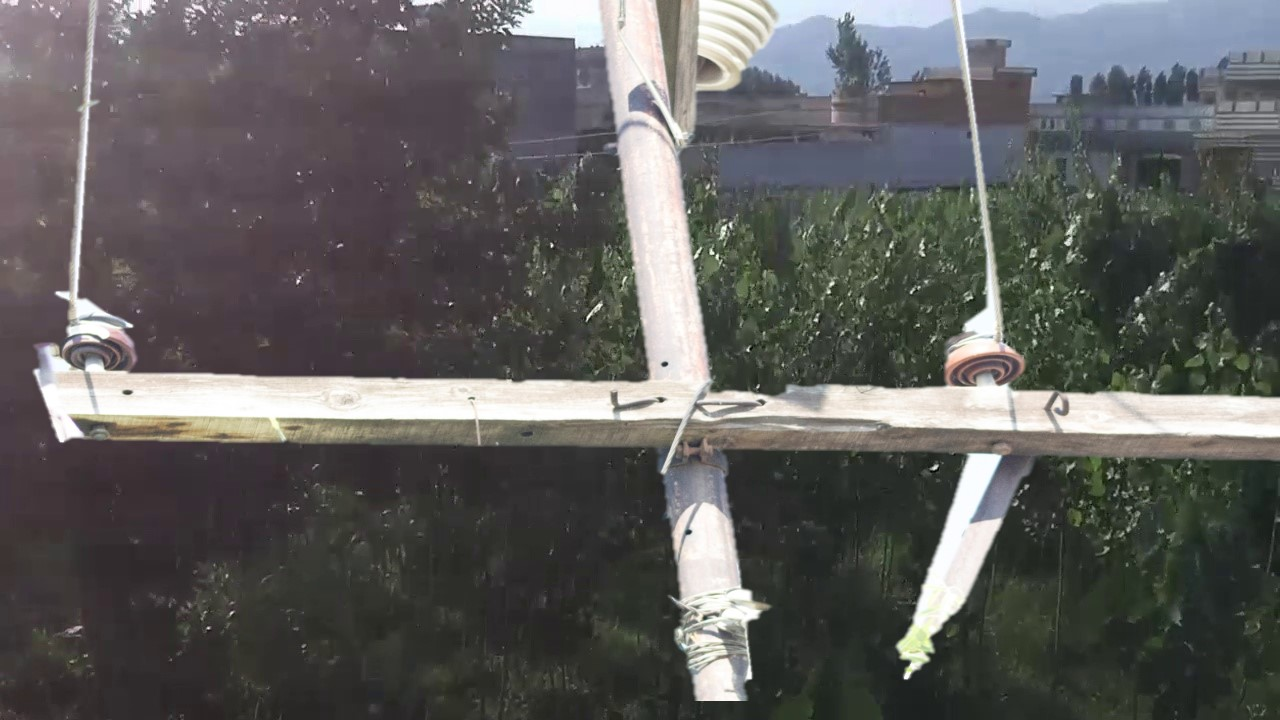defect_pin: (63, 306, 138, 374)
insulator_pin: (938, 332, 1030, 390)
